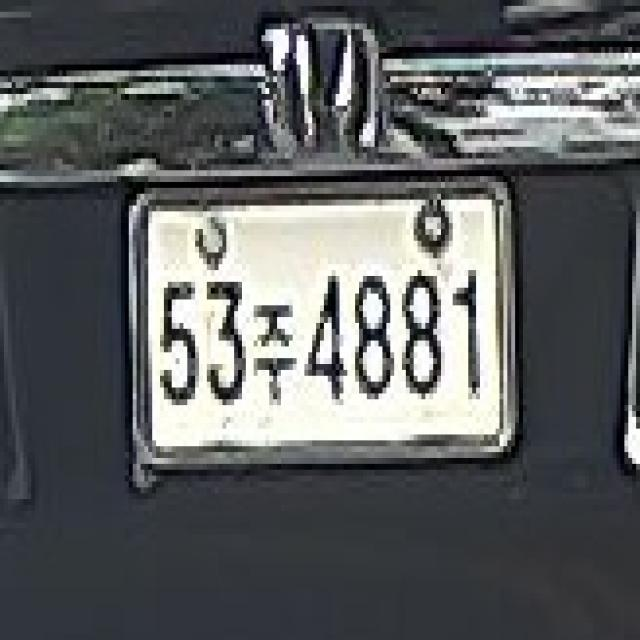1: (452, 258, 492, 399)
3: (195, 270, 242, 417)
4: (304, 258, 352, 405)
5: (160, 276, 207, 405)
8: (394, 264, 449, 405), (344, 264, 394, 399)
ju: (246, 276, 293, 423)
license_plate: (129, 176, 511, 476)
